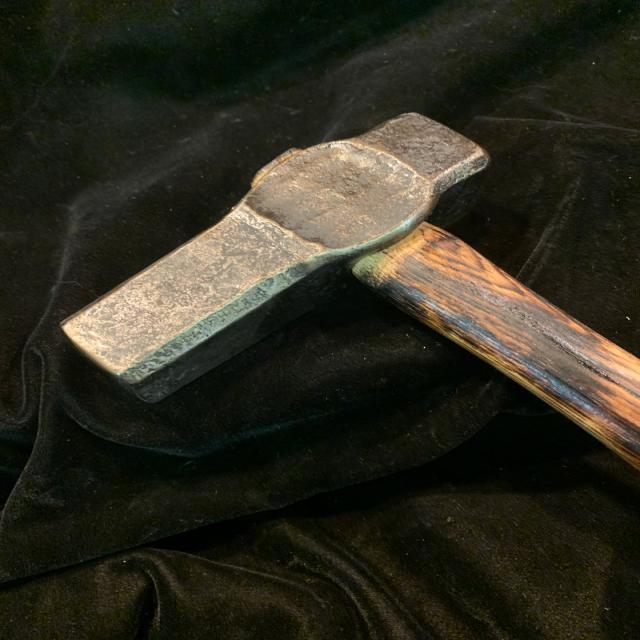hammer: (45, 98, 640, 483)
